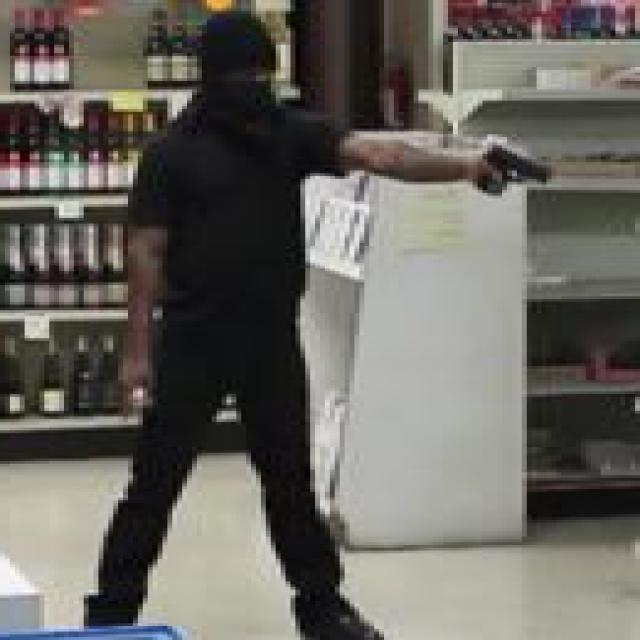Gun: (478, 137, 561, 196)
